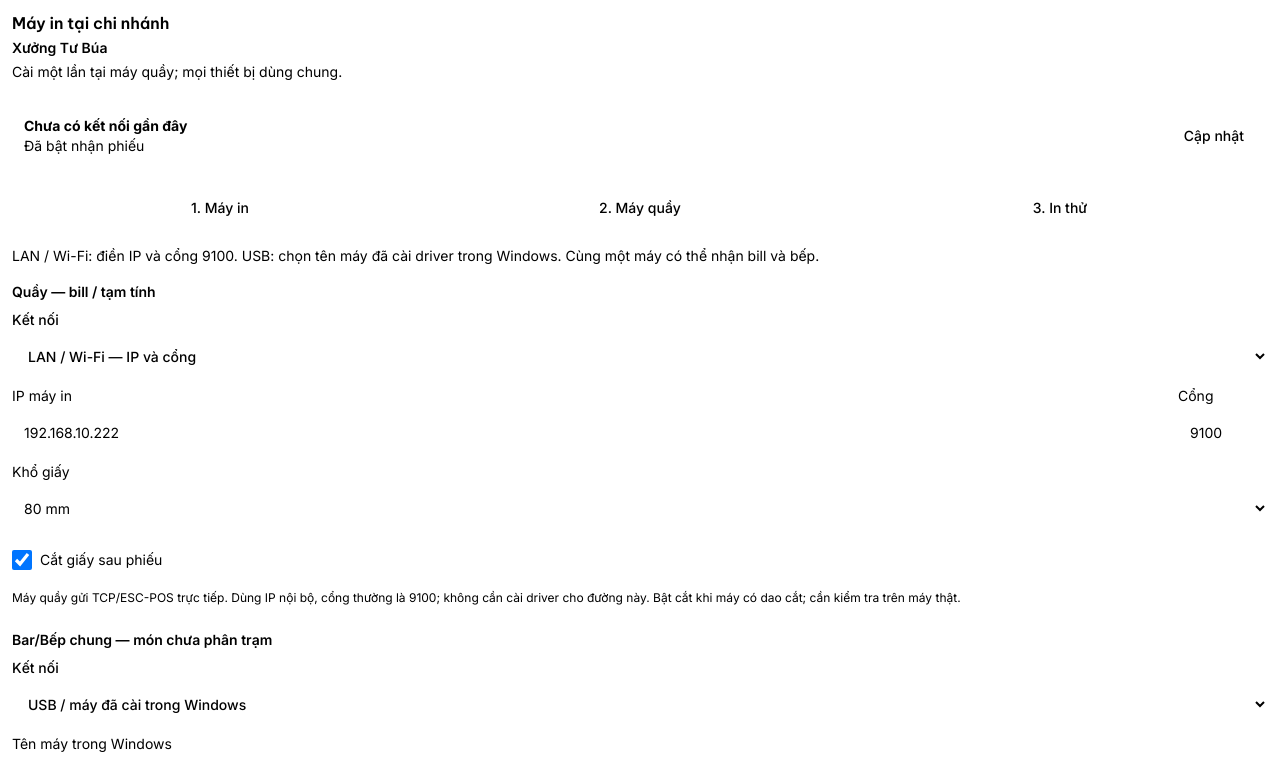
Scenario: branch scoped printer setup › does not check an edited but unsaved destination
Expected: the field showing "192.168.10.222" is shown, [12,410,1170,454]
Replace the text in the field labelled "Cổng" with "9200" at (1223, 432), box [1178,410,1268,454]
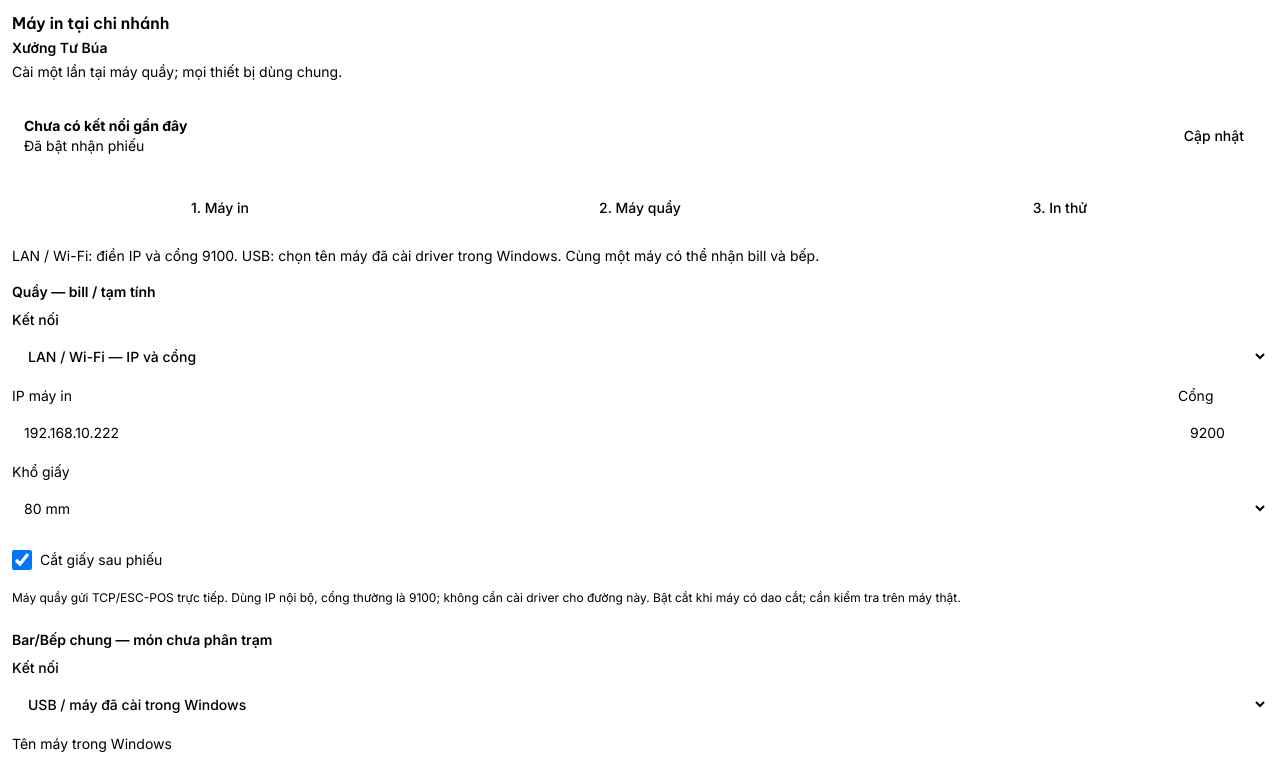
Click the button with aria-label "3. In thử & sử dụng" at (1060, 208), box [852,186,1268,230]
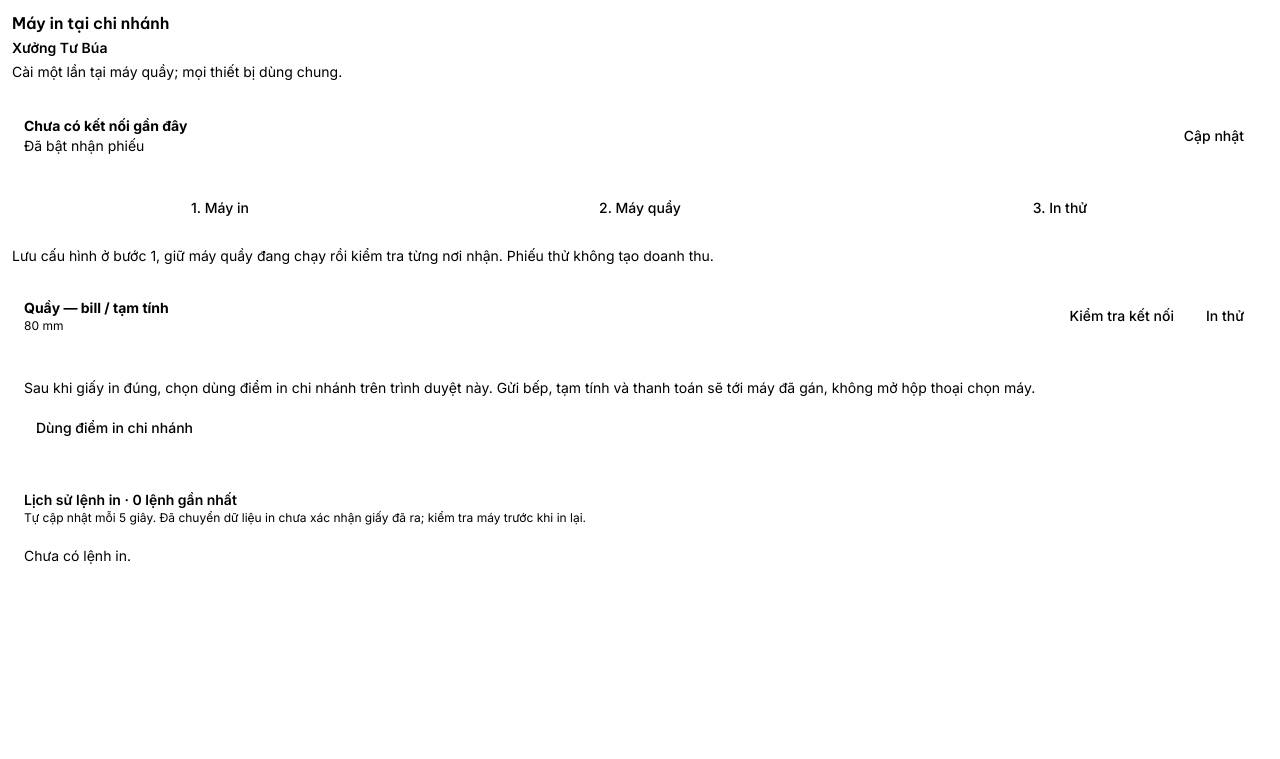
Click the button "Kiểm tra kết nối" at (1122, 316), box [1058,294,1186,338]
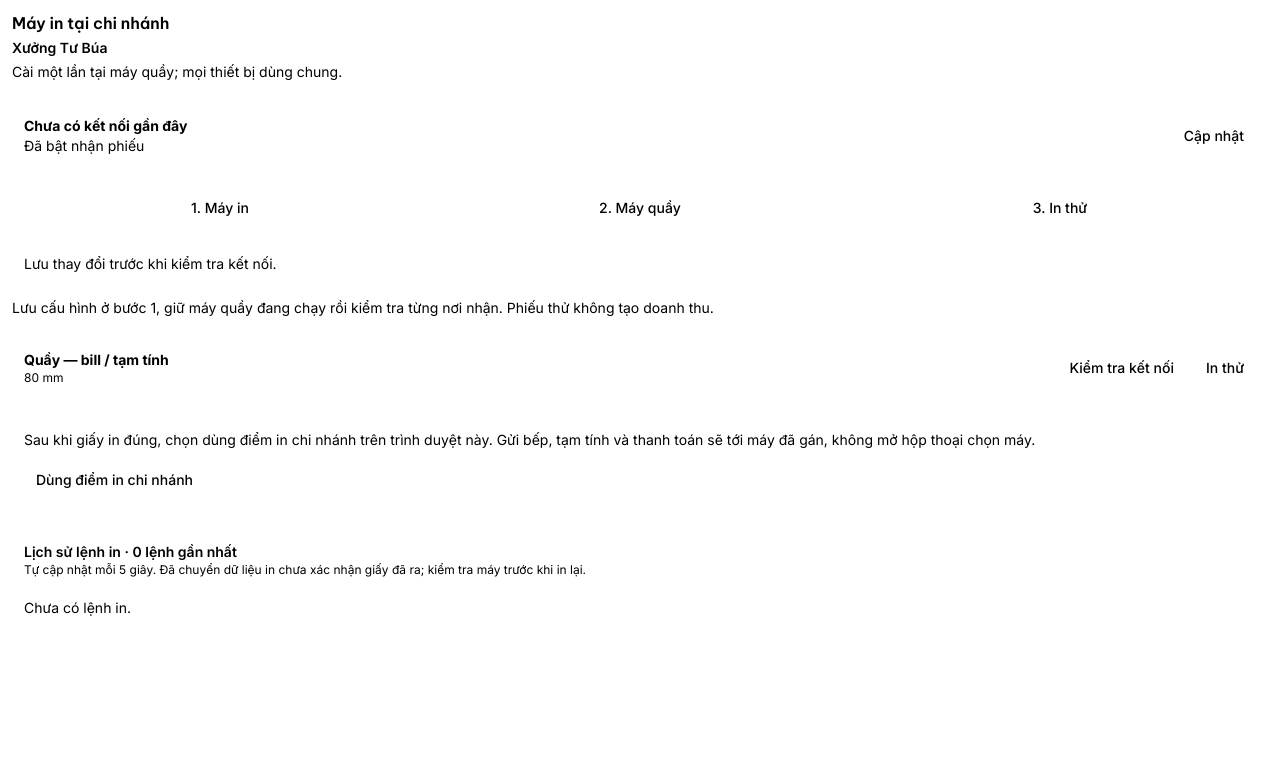
Expected: the text "Lưu thay đổi trước khi kiểm tra kết nối." is shown, [24,255,277,272]
